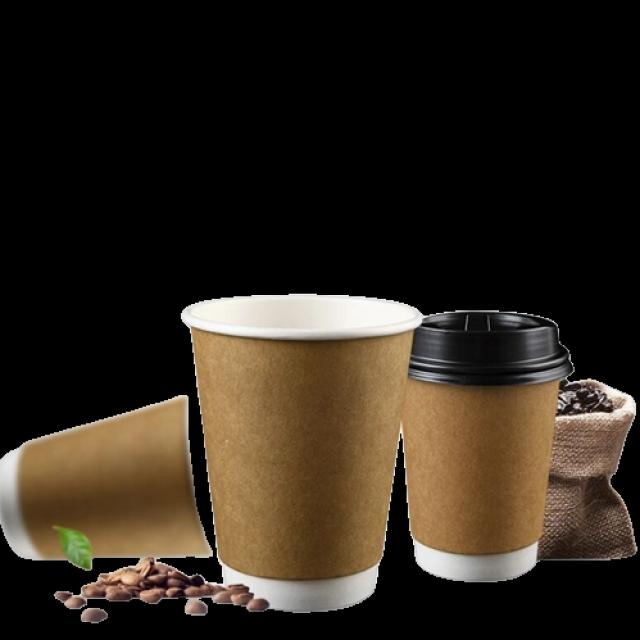karton-bardak: (165, 282, 425, 640)
